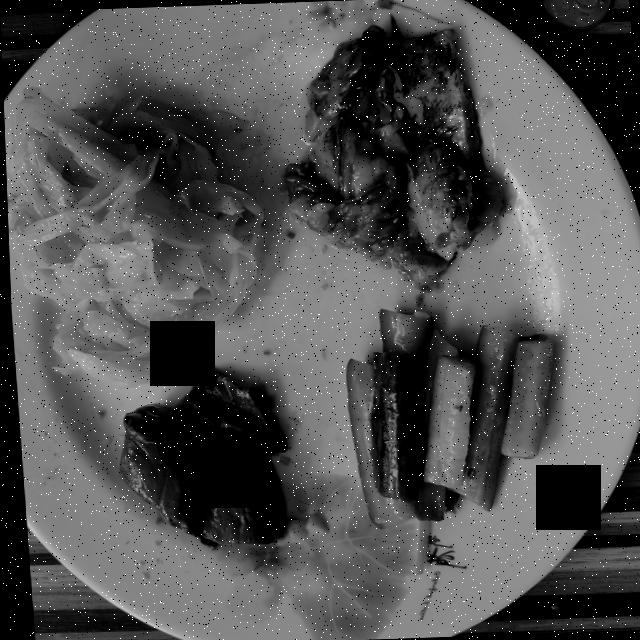Kabayaki sea bream fillet: (284, 26, 502, 287)
cabbage: (5, 86, 262, 386)
coin: (542, 0, 611, 29)
cucumber: (343, 309, 550, 526)
pig blood curd: (116, 360, 282, 547)
